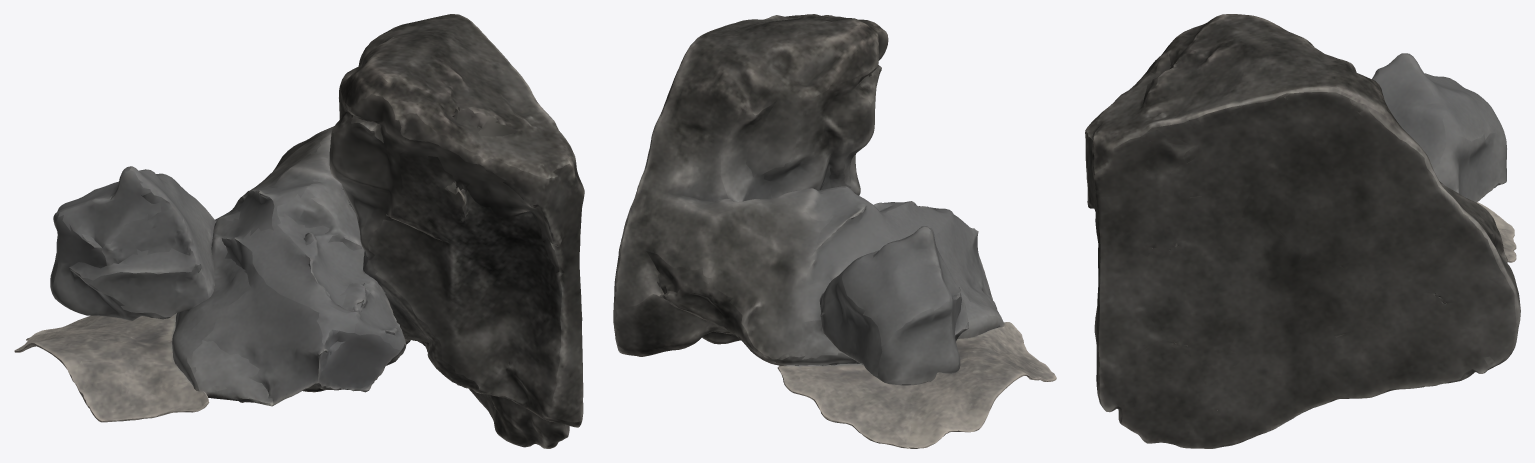
3 renders of one model, left to right at view 1: azimuth 30°, elevation 25°; view 2: azimuth 150°, elevation 25°; view 3: azimuth 270°, elevation 25°, orthographic. The views are drawn at different scales.
Parts seen in each view (by area): view 1: world; view 2: world; view 3: world.
Part boxes in pixels (bbox=[...]): world: bbox=[14, 14, 584, 448]; world: bbox=[613, 14, 1056, 448]; world: bbox=[1085, 14, 1520, 448].
Bounding box in the file's own units: 1.59 × 1.5 × 1.59.
1 material, 1 textured.
